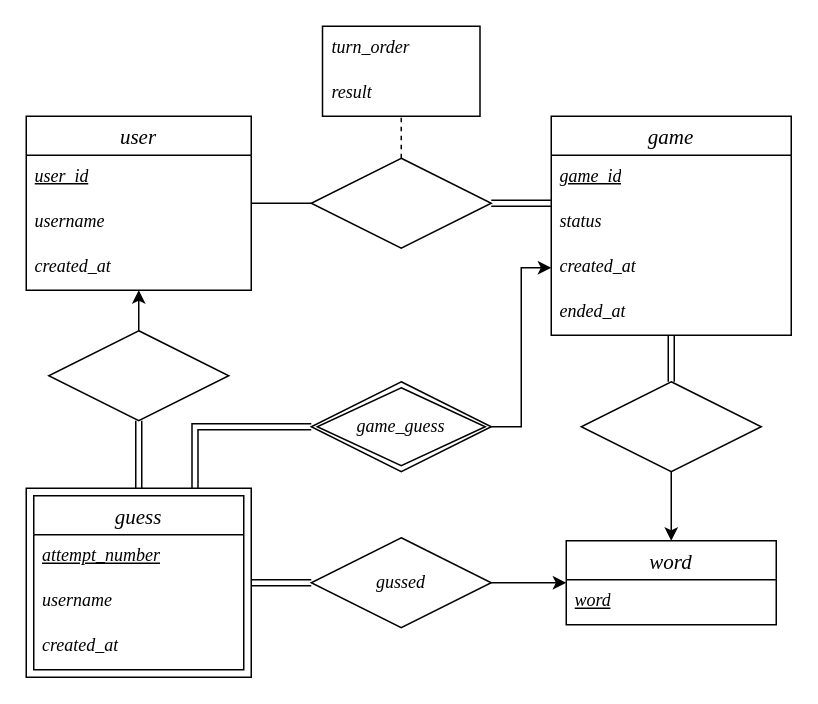
Image size: 818x704. Some labels were removed from this diagram. The centre of each missing label's shape, as x and y in pixels:
answer: the point at 670,426
makes: the point at 138,375
plays: the point at 400,202
